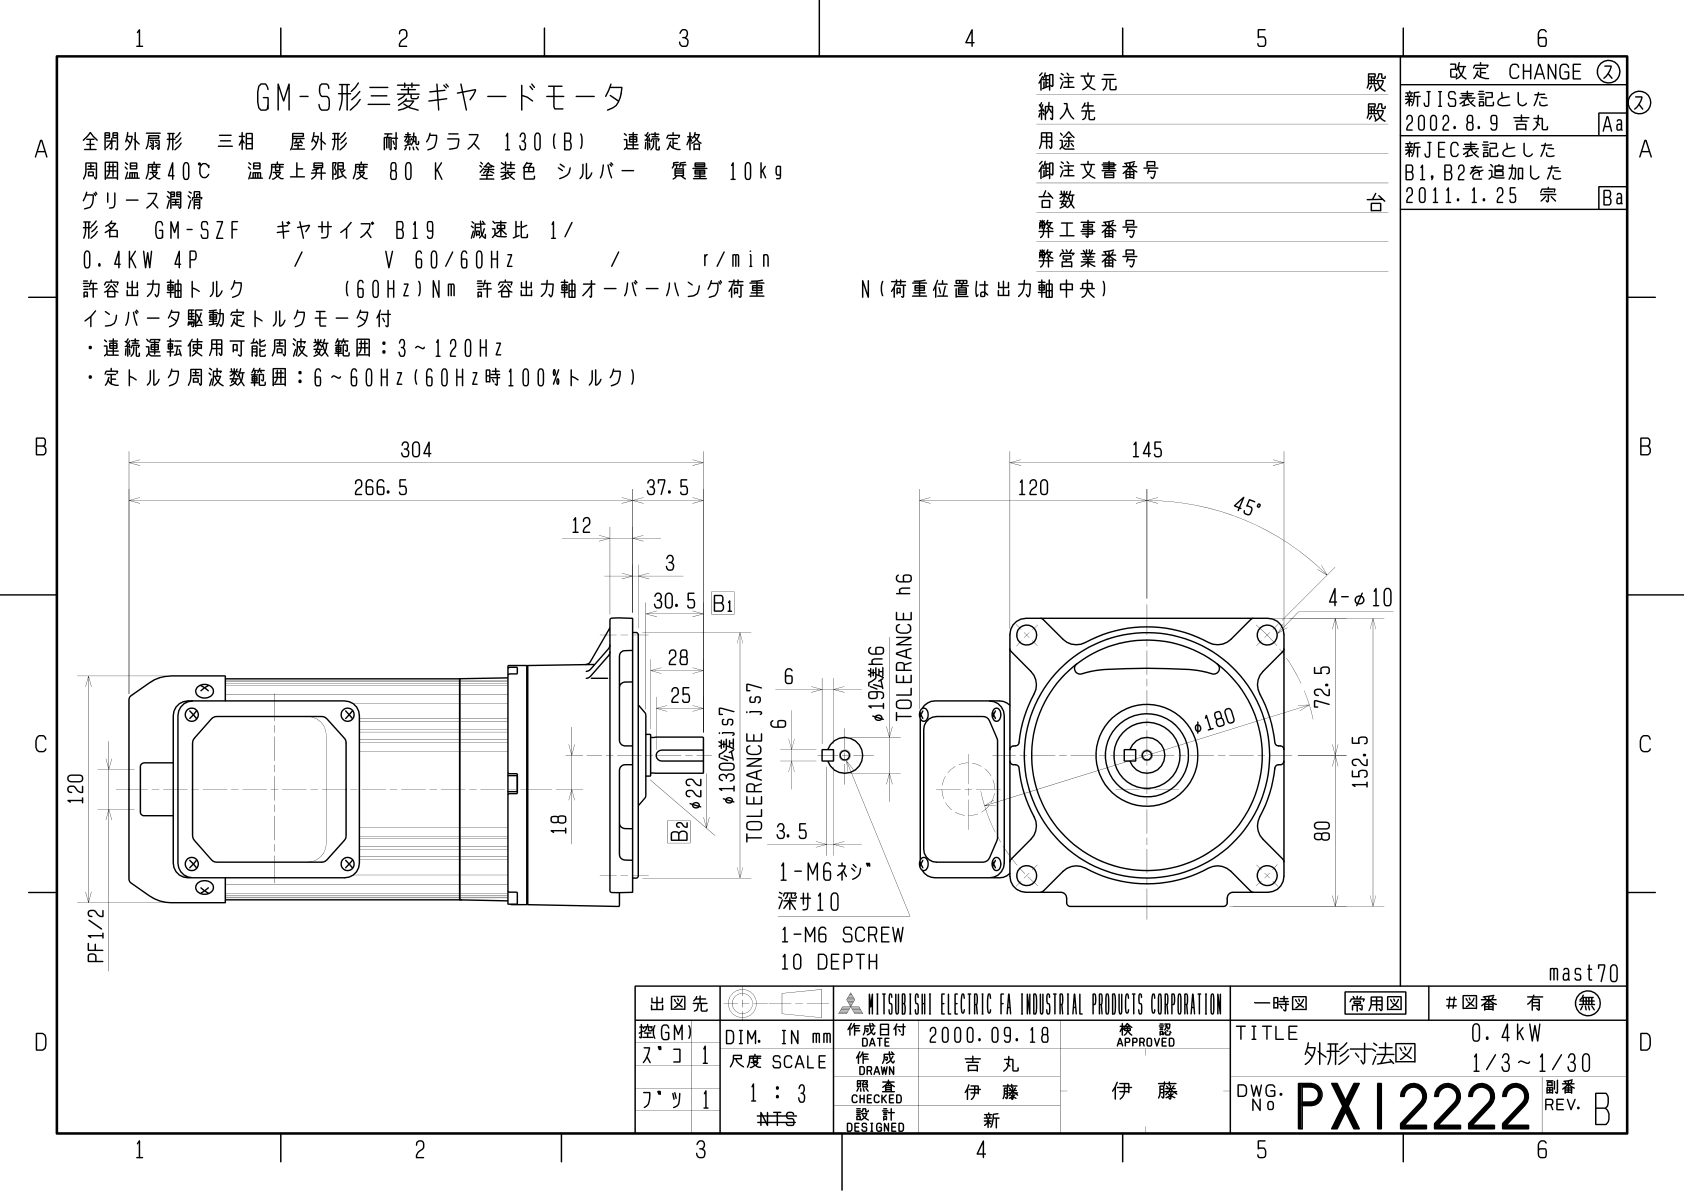GM_S_インバタ屋外＿三相_フランジ: (63, 409, 1403, 982)
